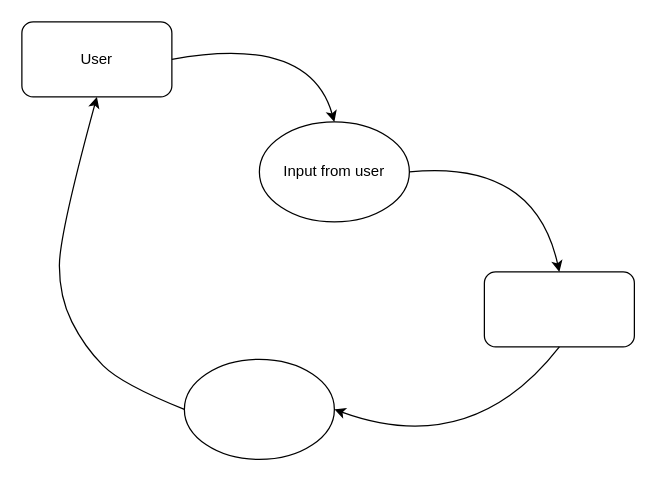
Image size: 656x481. Some labels were removed from this diagram. Each missing label, with the centre of its shape:
"Predicted output based on user's input" belongs at (x=258, y=408).
"Trained LSTM CNN Model" belongs at (x=558, y=309).
